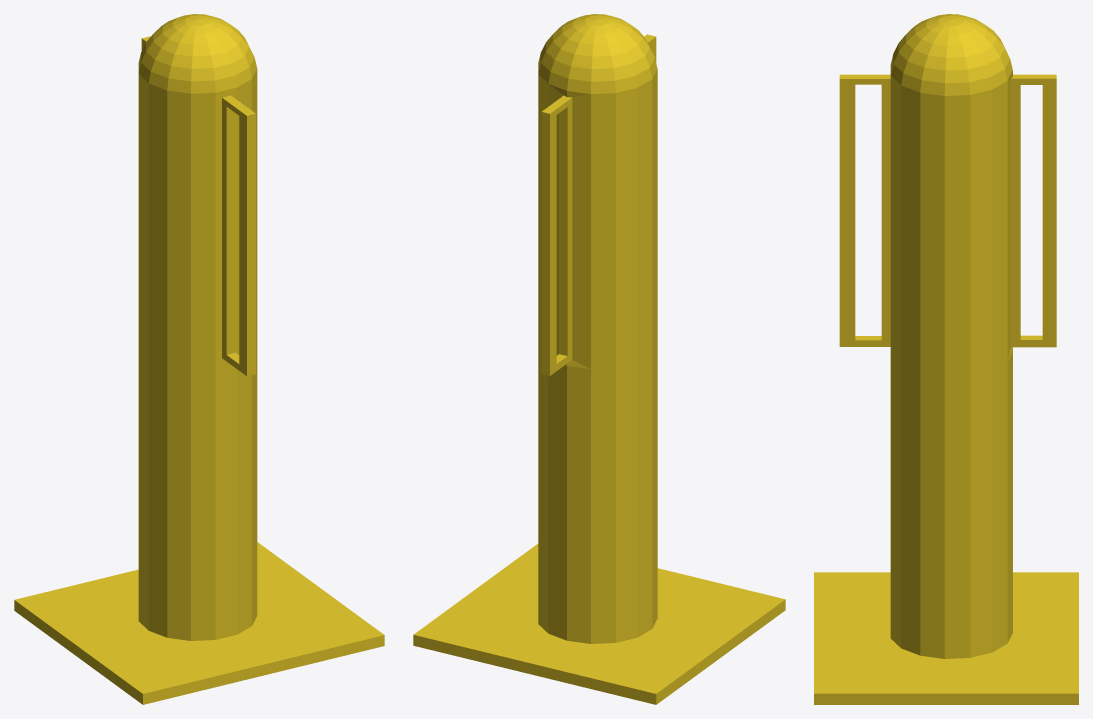
Rendered from GamesE_E03_postes_de_seguridad.fbx.
3 renders of one model, left to right at view 1: azimuth 30°, elevation 25°; view 2: azimuth 150°, elevation 25°; view 3: azimuth 270°, elevation 25°, orthographic. The views are drawn at different scales.
Visible parts, largest first — view 1: Sphere; view 2: Sphere; view 3: Sphere.
Boxes of the visible parts, box(x1,y1,x2,y2) form: Sphere: box(14, 14, 384, 704); Sphere: box(413, 14, 785, 704); Sphere: box(814, 14, 1078, 704).
Size of the model in its own units: 231 by 555 by 213.
